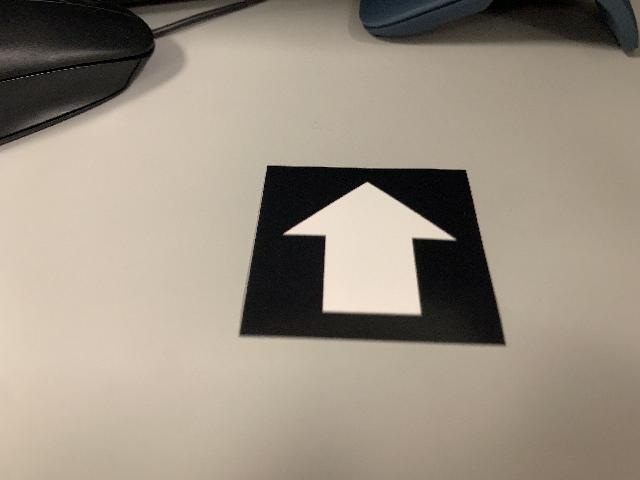up: (234, 160, 509, 349)
